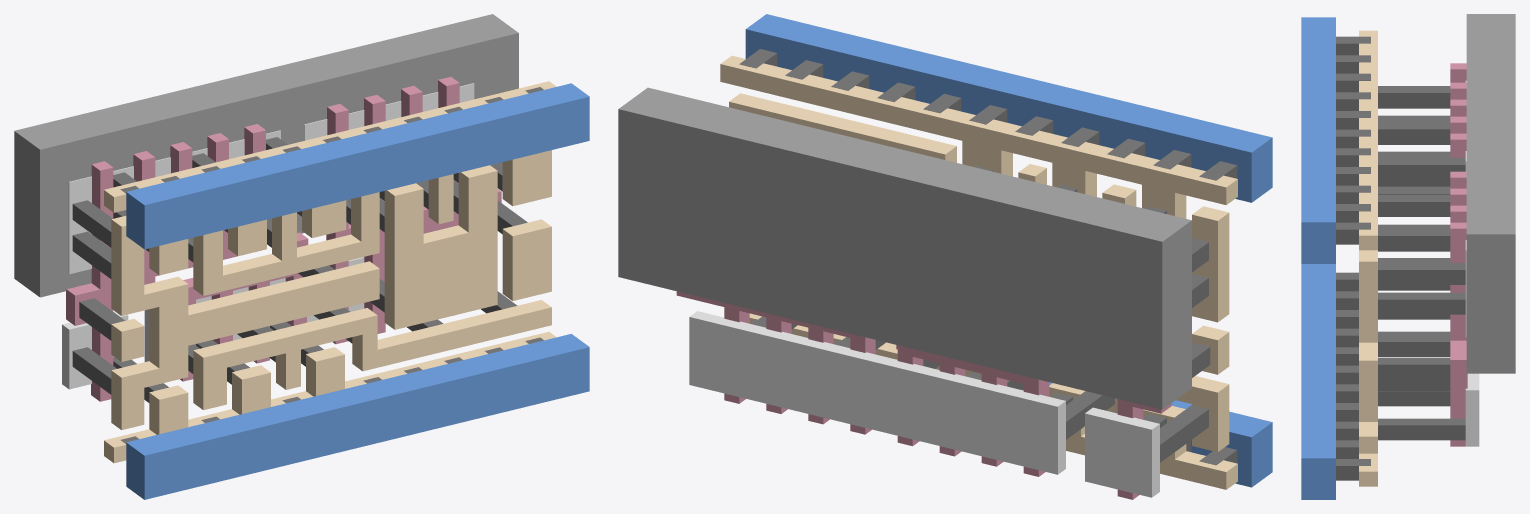
The model's file is sky130_fd_sc_hd__einvn_4.gds.gltf.
The picture shows the model from 3 angles, left to right: view 1: azimuth 30°, elevation 25°; view 2: azimuth 150°, elevation 25°; view 3: azimuth 270°, elevation 25°; orthographic projection. The views are drawn at different scales.
Parts seen in each view (by area): view 1: sky130_fd_sc_hd__einvn_4_li1, sky130_fd_sc_hd__einvn_4_met1, sky130_fd_sc_hd__einvn_4_nwell, sky130_fd_sc_hd__einvn_4_poly, sky130_fd_sc_hd__einvn_4_licon, sky130_fd_sc_hd__einvn_4_diff, sky130_fd_sc_hd__einvn_4_mcon; view 2: sky130_fd_sc_hd__einvn_4_nwell, sky130_fd_sc_hd__einvn_4_diff, sky130_fd_sc_hd__einvn_4_li1, sky130_fd_sc_hd__einvn_4_met1, sky130_fd_sc_hd__einvn_4_poly, sky130_fd_sc_hd__einvn_4_mcon, sky130_fd_sc_hd__einvn_4_licon; view 3: sky130_fd_sc_hd__einvn_4_licon, sky130_fd_sc_hd__einvn_4_nwell, sky130_fd_sc_hd__einvn_4_met1, sky130_fd_sc_hd__einvn_4_mcon, sky130_fd_sc_hd__einvn_4_li1, sky130_fd_sc_hd__einvn_4_poly, sky130_fd_sc_hd__einvn_4_diff.
Boxes of the visible parts, x1=… form: sky130_fd_sc_hd__einvn_4_li1: x1=104, y1=81, x2=556, y2=463; sky130_fd_sc_hd__einvn_4_met1: x1=126, y1=83, x2=589, y2=499; sky130_fd_sc_hd__einvn_4_nwell: x1=14, y1=14, x2=518, y2=297; sky130_fd_sc_hd__einvn_4_poly: x1=66, y1=76, x2=501, y2=401; sky130_fd_sc_hd__einvn_4_licon: x1=72, y1=137, x2=527, y2=402; sky130_fd_sc_hd__einvn_4_diff: x1=62, y1=83, x2=474, y2=389; sky130_fd_sc_hd__einvn_4_mcon: x1=120, y1=87, x2=543, y2=443; sky130_fd_sc_hd__einvn_4_nwell: x1=618, y1=87, x2=1191, y2=409; sky130_fd_sc_hd__einvn_4_diff: x1=689, y1=311, x2=1159, y2=497; sky130_fd_sc_hd__einvn_4_li1: x1=720, y1=55, x2=1237, y2=489; sky130_fd_sc_hd__einvn_4_met1: x1=745, y1=14, x2=1272, y2=487; sky130_fd_sc_hd__einvn_4_poly: x1=676, y1=291, x2=1171, y2=499; sky130_fd_sc_hd__einvn_4_mcon: x1=739, y1=49, x2=1237, y2=465; sky130_fd_sc_hd__einvn_4_licon: x1=750, y1=166, x2=1210, y2=462; sky130_fd_sc_hd__einvn_4_licon: x1=1378, y1=86, x2=1465, y2=440; sky130_fd_sc_hd__einvn_4_nwell: x1=1466, y1=14, x2=1515, y2=373; sky130_fd_sc_hd__einvn_4_met1: x1=1301, y1=17, x2=1335, y2=499; sky130_fd_sc_hd__einvn_4_mcon: x1=1336, y1=36, x2=1370, y2=480; sky130_fd_sc_hd__einvn_4_li1: x1=1359, y1=30, x2=1377, y2=486; sky130_fd_sc_hd__einvn_4_poly: x1=1450, y1=63, x2=1467, y2=446; sky130_fd_sc_hd__einvn_4_diff: x1=1465, y1=80, x2=1479, y2=446.
Size of the model in its own units: 5.44 by 3.2 by 2.24.
